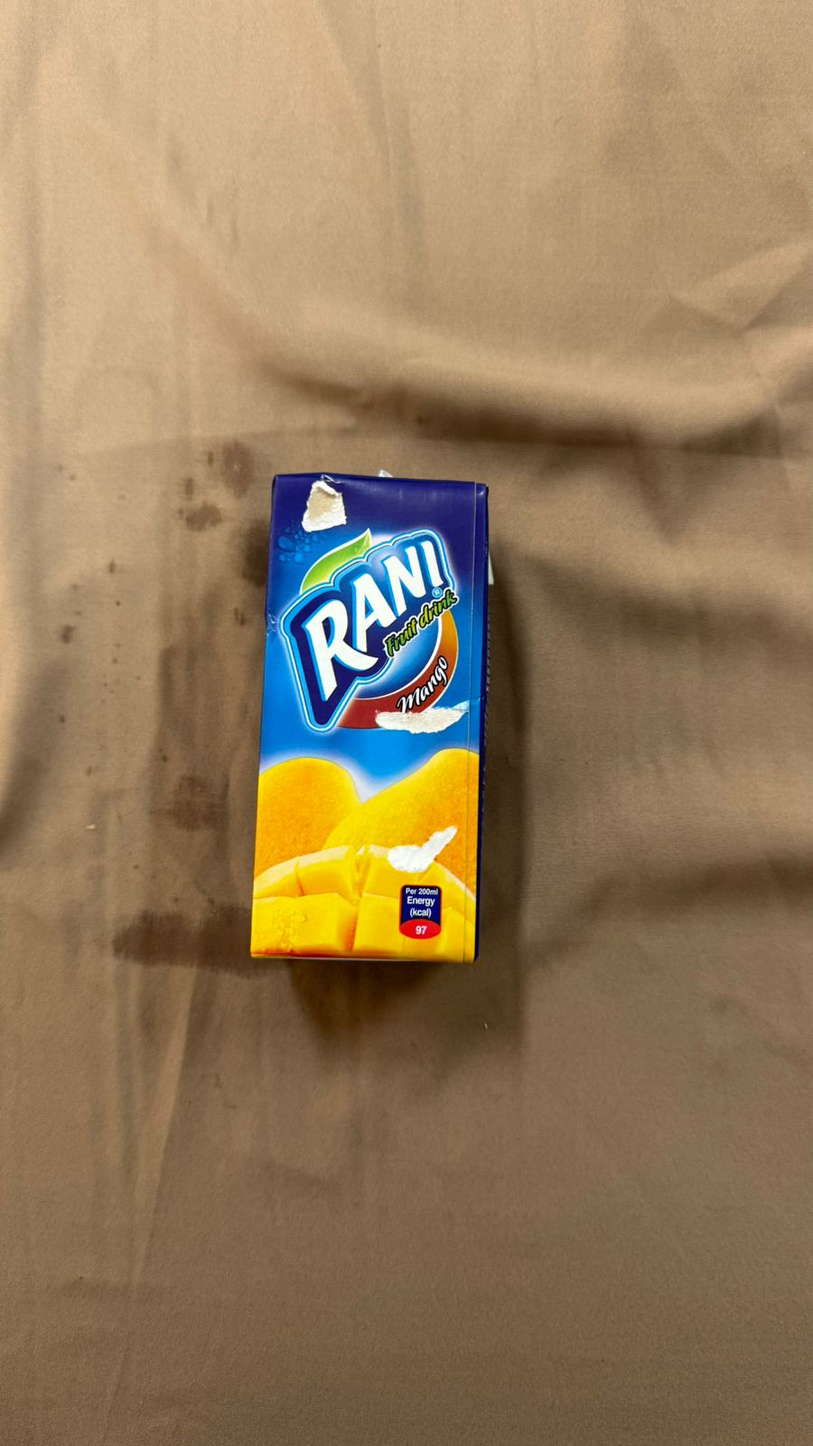paper: (81, 258, 732, 1414)
